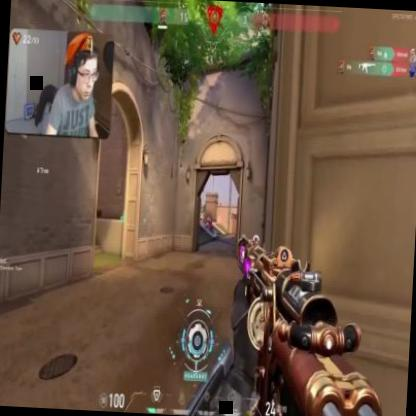enemy: (202, 211, 205, 221)
enemy_head: (204, 212, 205, 215)
